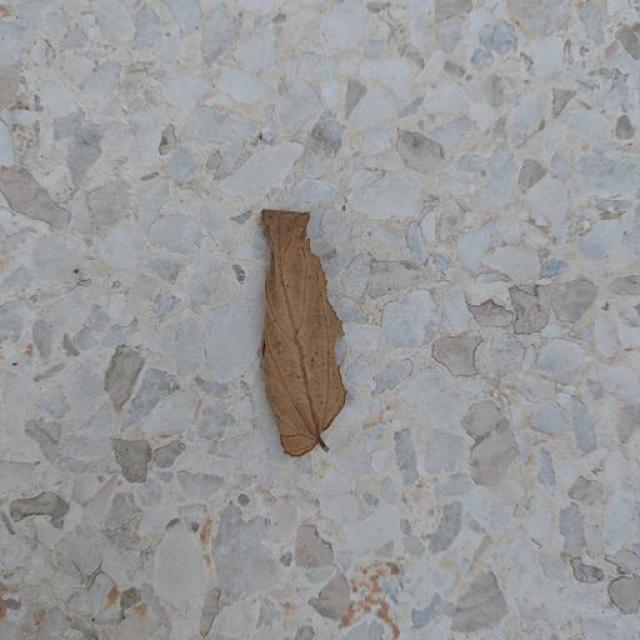organic: (262, 210, 346, 456)
